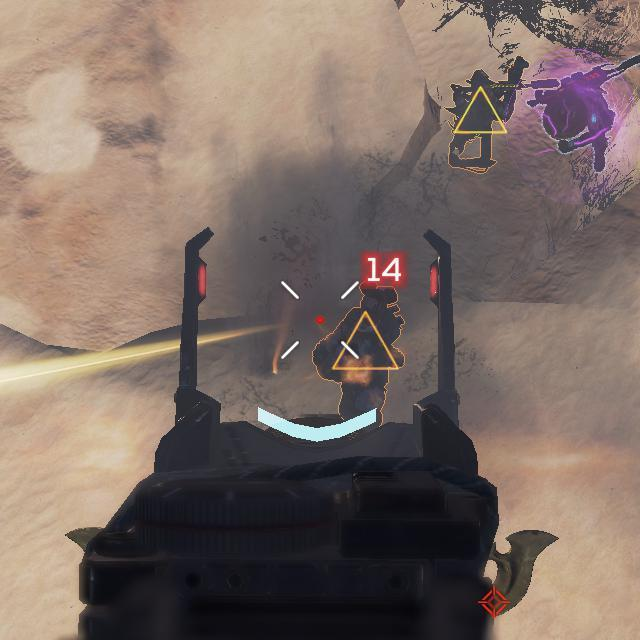avatar: (310, 280, 410, 425), (447, 68, 524, 177)
object: (330, 306, 401, 376), (452, 84, 509, 137)
